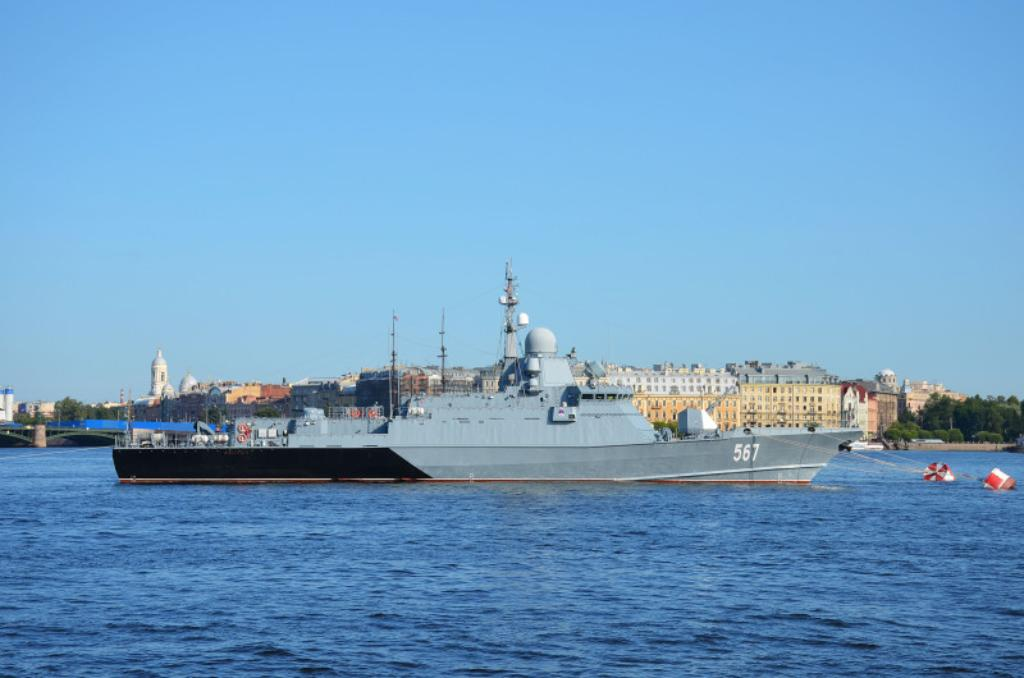Warship: (112, 260, 868, 484)
